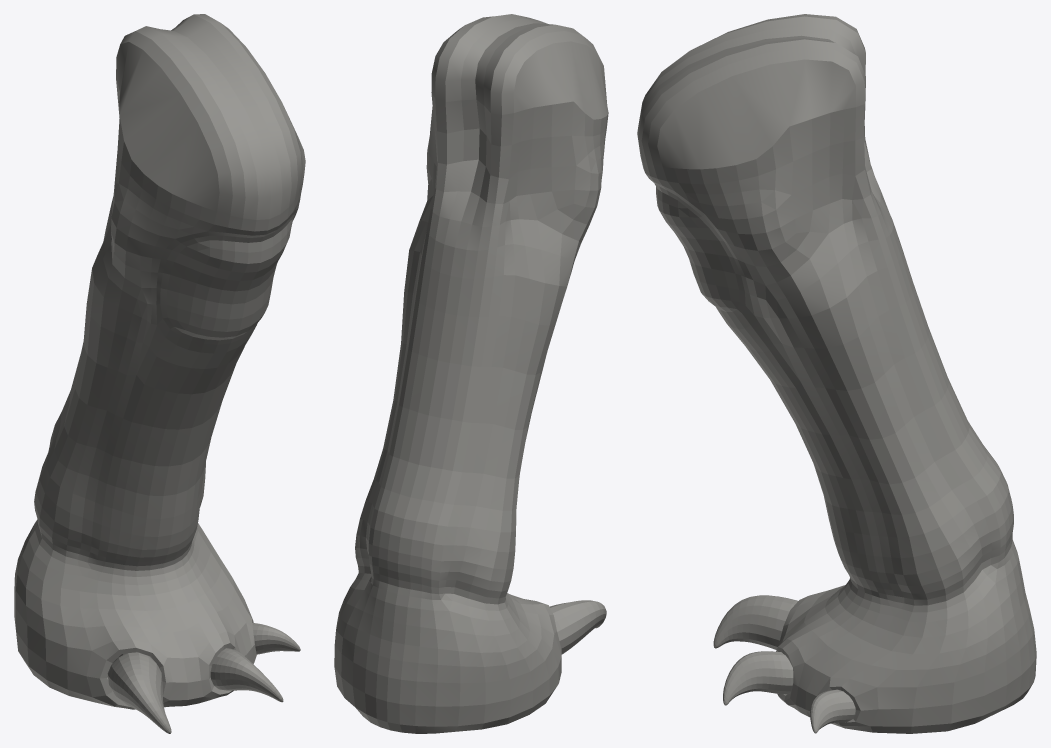
The model's file is pieDer2.obj.
The picture shows the model from 3 angles, left to right: view 1: azimuth 30°, elevation 25°; view 2: azimuth 150°, elevation 25°; view 3: azimuth 270°, elevation 25°; orthographic projection. The views are drawn at different scales.
Parts seen in each view (by area): view 1: polySurface169; view 2: polySurface169; view 3: polySurface169.
Part boxes in pixels (x1=…): polySurface169: x1=14, y1=14, x2=305, y2=733; polySurface169: x1=334, y1=14, x2=608, y2=733; polySurface169: x1=637, y1=14, x2=1036, y2=733.
Bounding box in the file's own units: 0.8596 × 2.52 × 1.38.
Materials: 2 (2 with a texture image).
